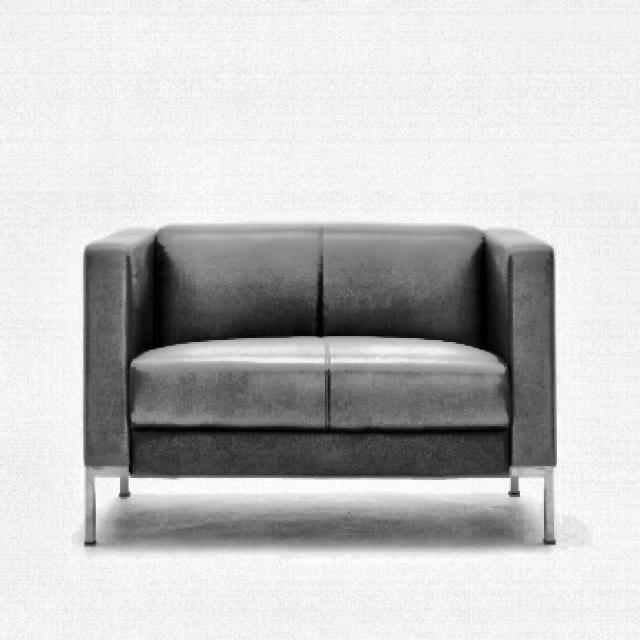sofa: (82, 220, 557, 546)
